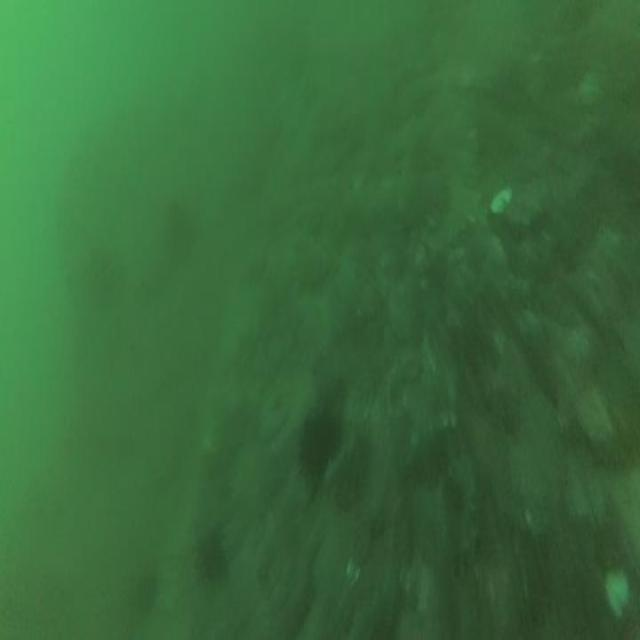echinus: (291, 403, 349, 491)
holothurian: (446, 442, 486, 569)
starfish: (190, 517, 239, 589)
